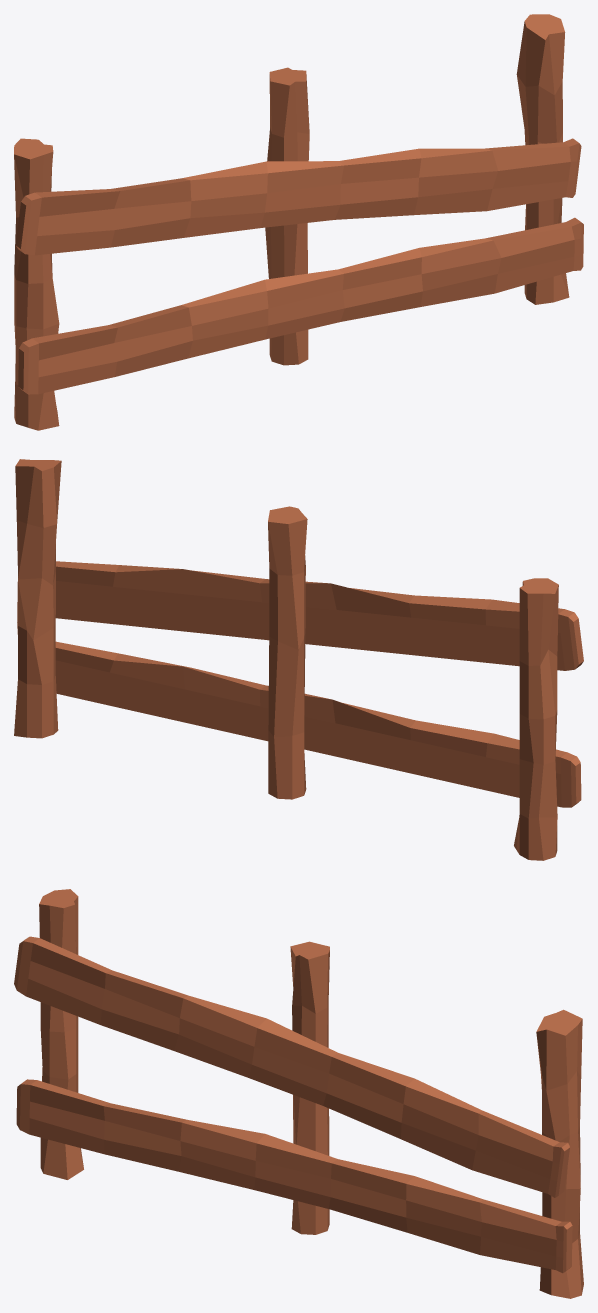
Rendered from Cerca Base 6.fbx.
3 renders of one model, top to bottom at view 1: azimuth 30°, elevation 25°; view 2: azimuth 150°, elevation 25°; view 3: azimuth 330°, elevation 25°, orthographic.
Parts seen in each view (by area): view 1: Cerca; view 2: Cerca; view 3: Cerca.
Boxes of the visible parts, x1,y1,x2,y2 form: Cerca: [14, 14, 583, 430]; Cerca: [14, 459, 583, 860]; Cerca: [14, 889, 583, 1298].
Size of the model in its own units: 995 by 484 by 104.
